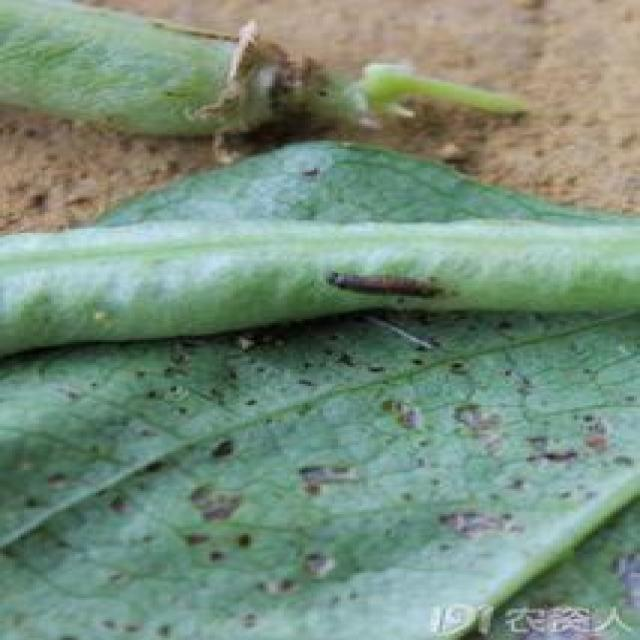BeetArmyWorm-Larva-: (323, 270, 450, 304)
